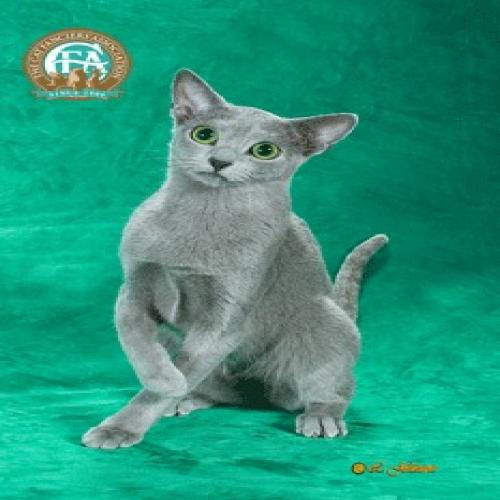rblue: (164, 69, 355, 199)
